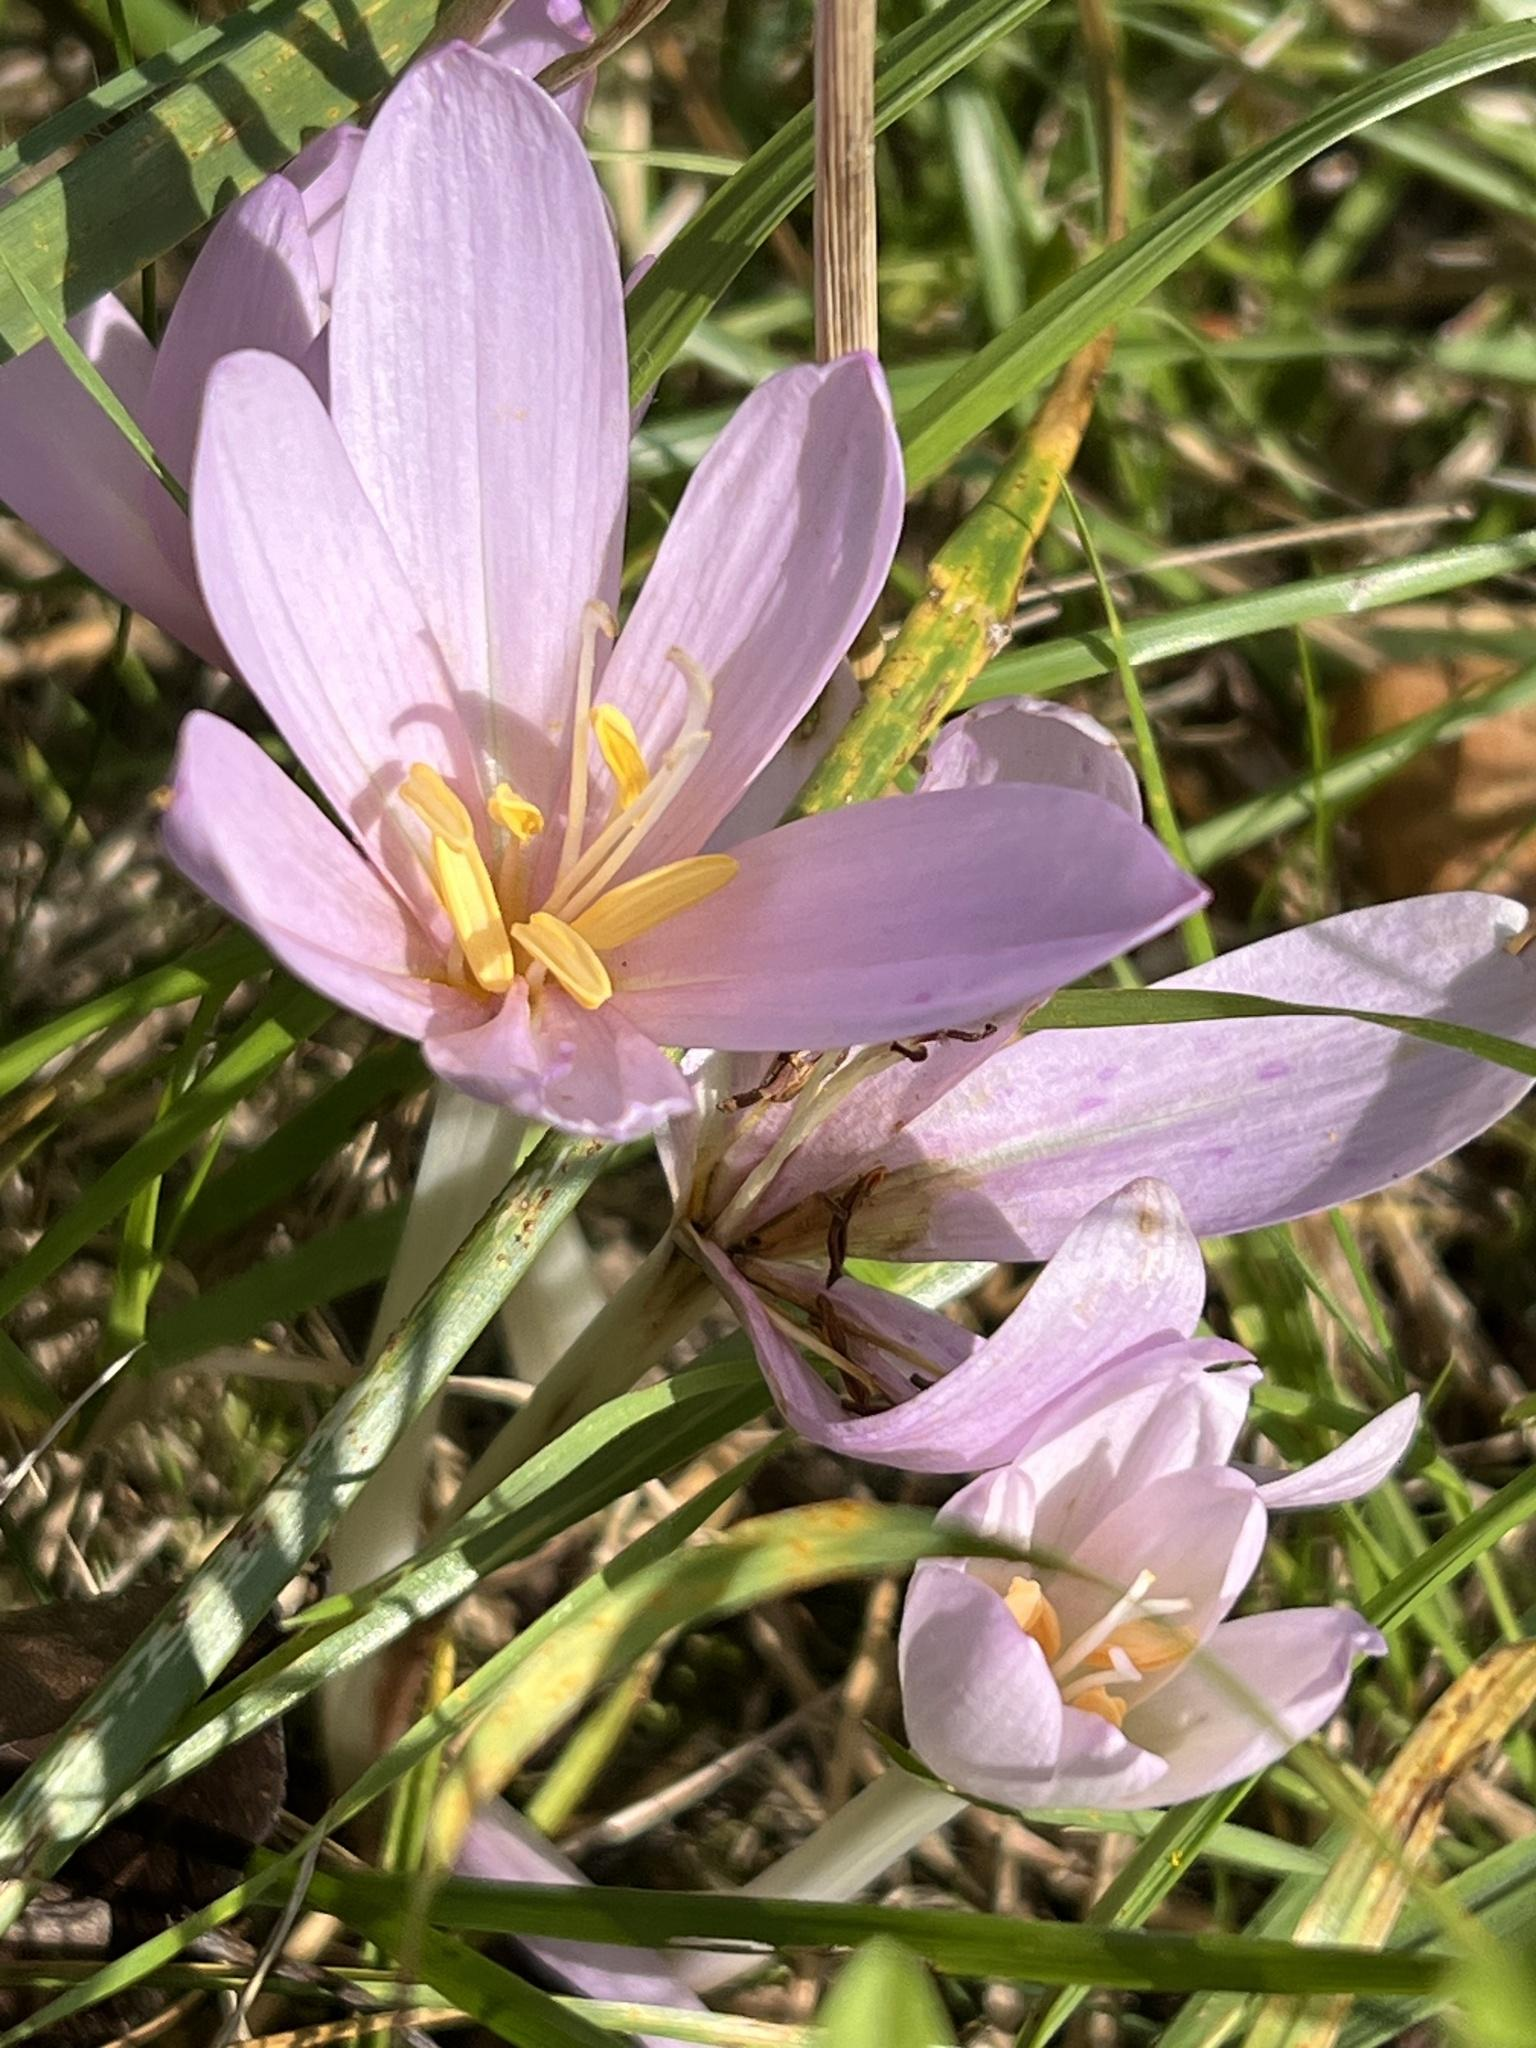Colchicum autumnale L: (53, 61, 1536, 1956)
